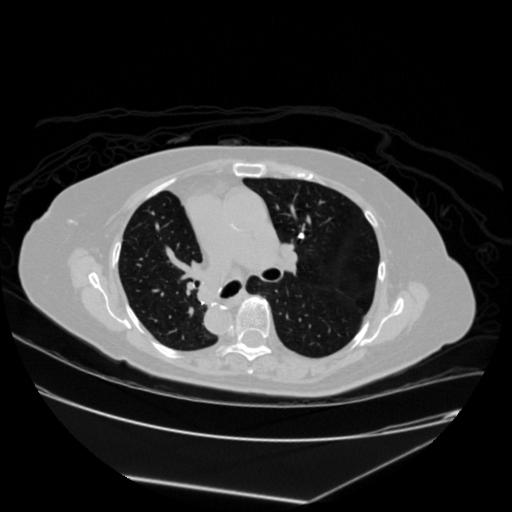nodule: (298, 230, 312, 244)
